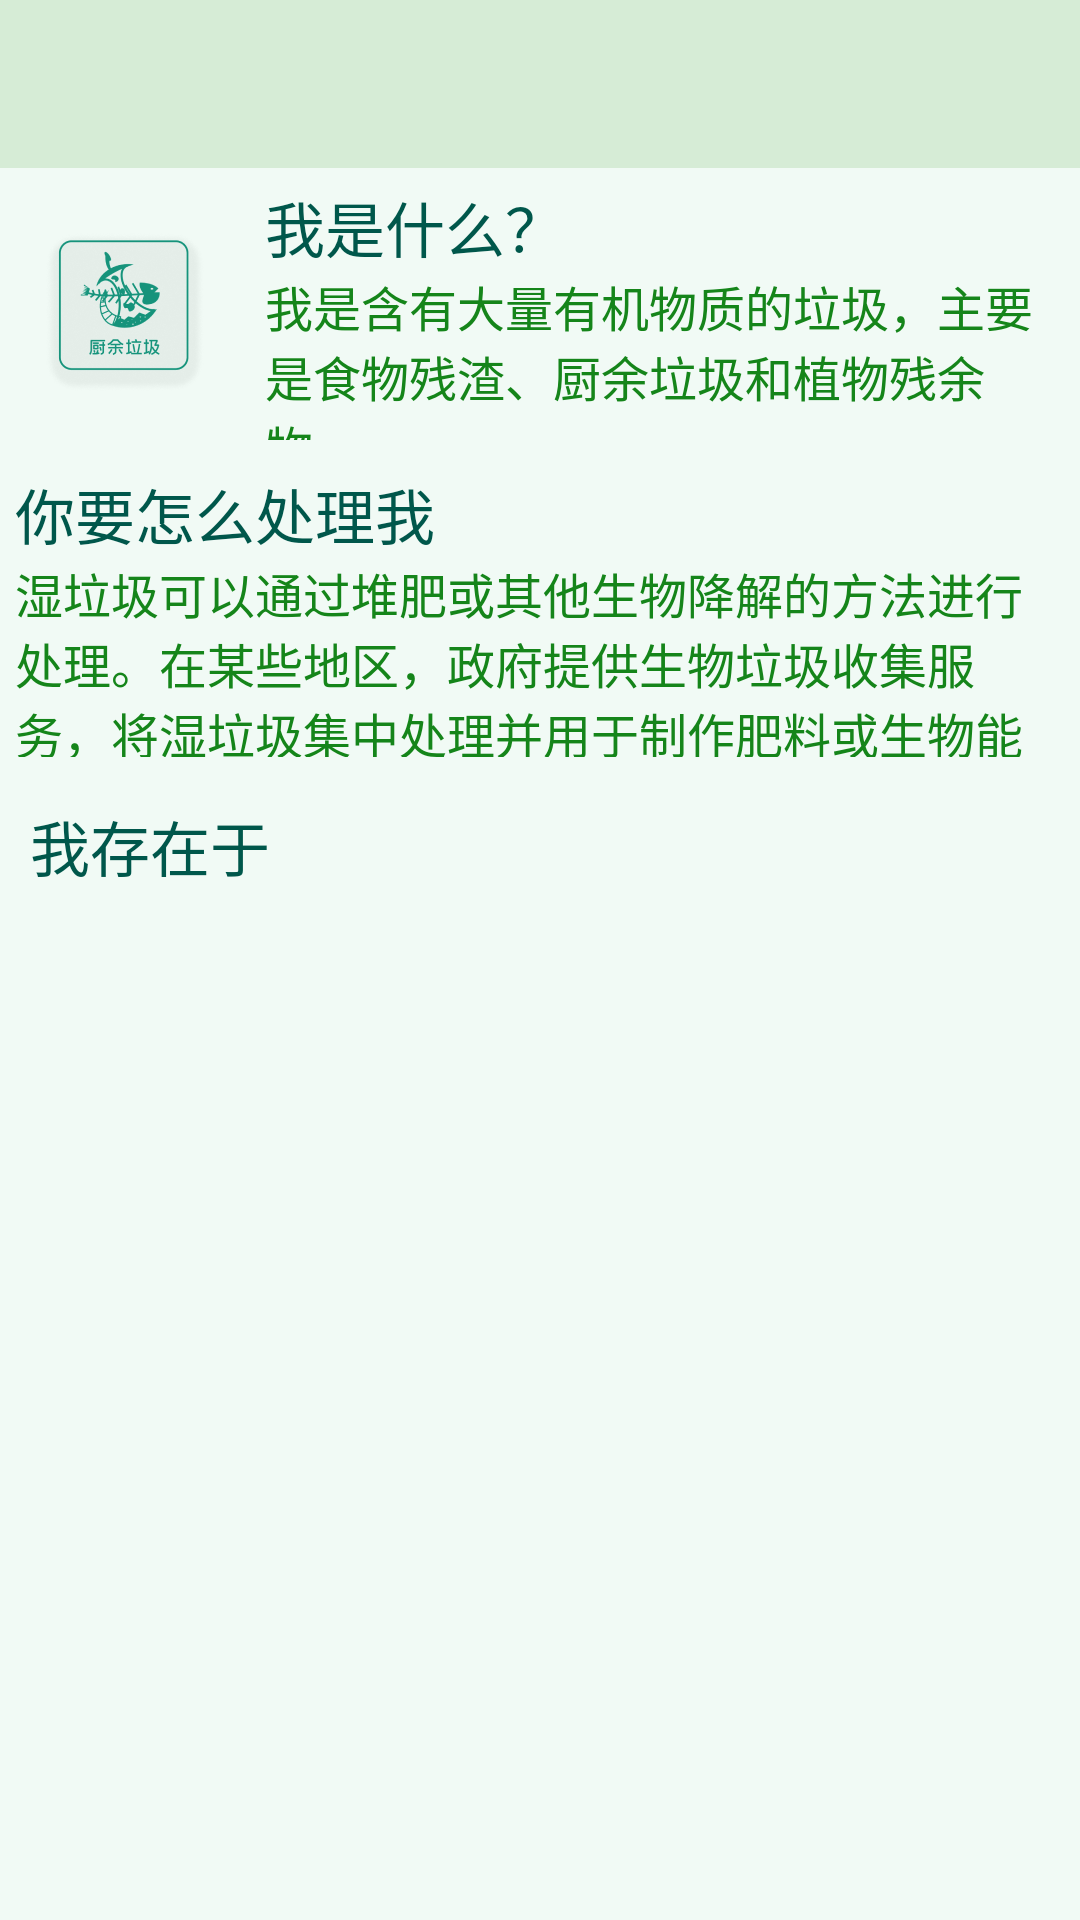

Screen size 1080px×1920px. Icon name, then its box in pixels as bbox=[x1, y1, x2, y2]:
wet: bbox=[52, 239, 198, 385]
